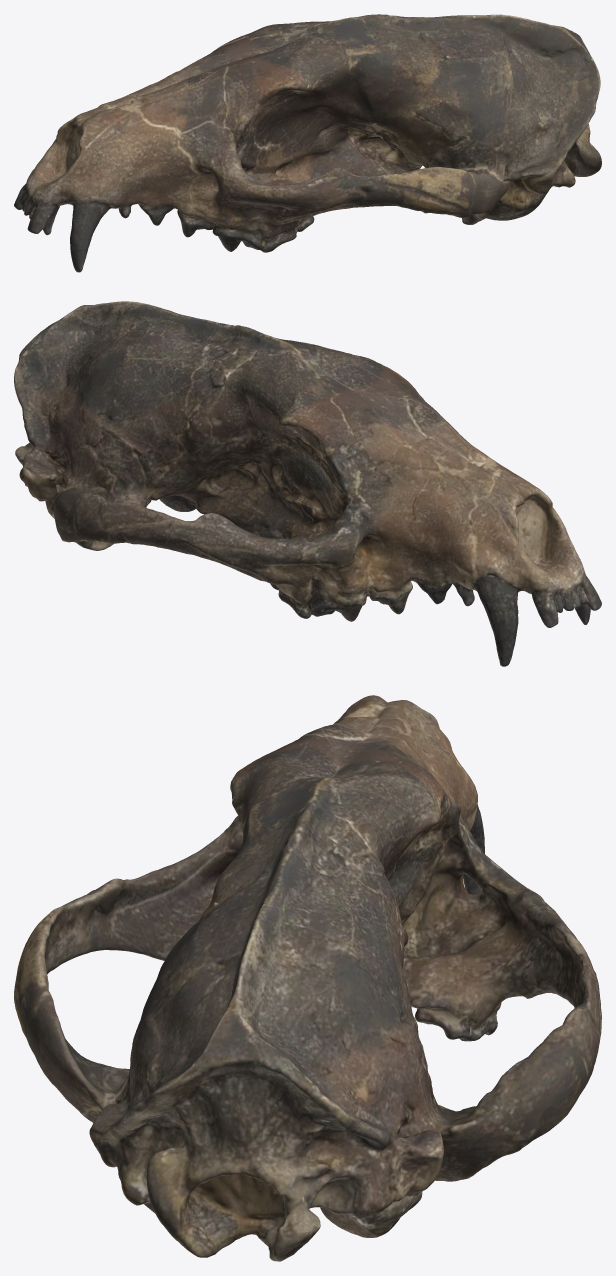
3 renders of one model, top to bottom at view 1: azimuth 30°, elevation 25°; view 2: azimuth 150°, elevation 25°; view 3: azimuth 270°, elevation 25°, orthographic. The views are drawn at different scales.
Parts seen in each view (by area): view 1: Mesocyon_sp-unwrapped-webmulti; view 2: Mesocyon_sp-unwrapped-webmulti; view 3: Mesocyon_sp-unwrapped-webmulti.
Boxes of the visible parts, box(x1,y1,x2,y2) form: Mesocyon_sp-unwrapped-webmulti: box(14, 14, 601, 272); Mesocyon_sp-unwrapped-webmulti: box(14, 301, 601, 666); Mesocyon_sp-unwrapped-webmulti: box(14, 695, 601, 1261).
Bounding box in the file's own units: 5047 × 1848 × 2967.
1 material, 1 textured.
